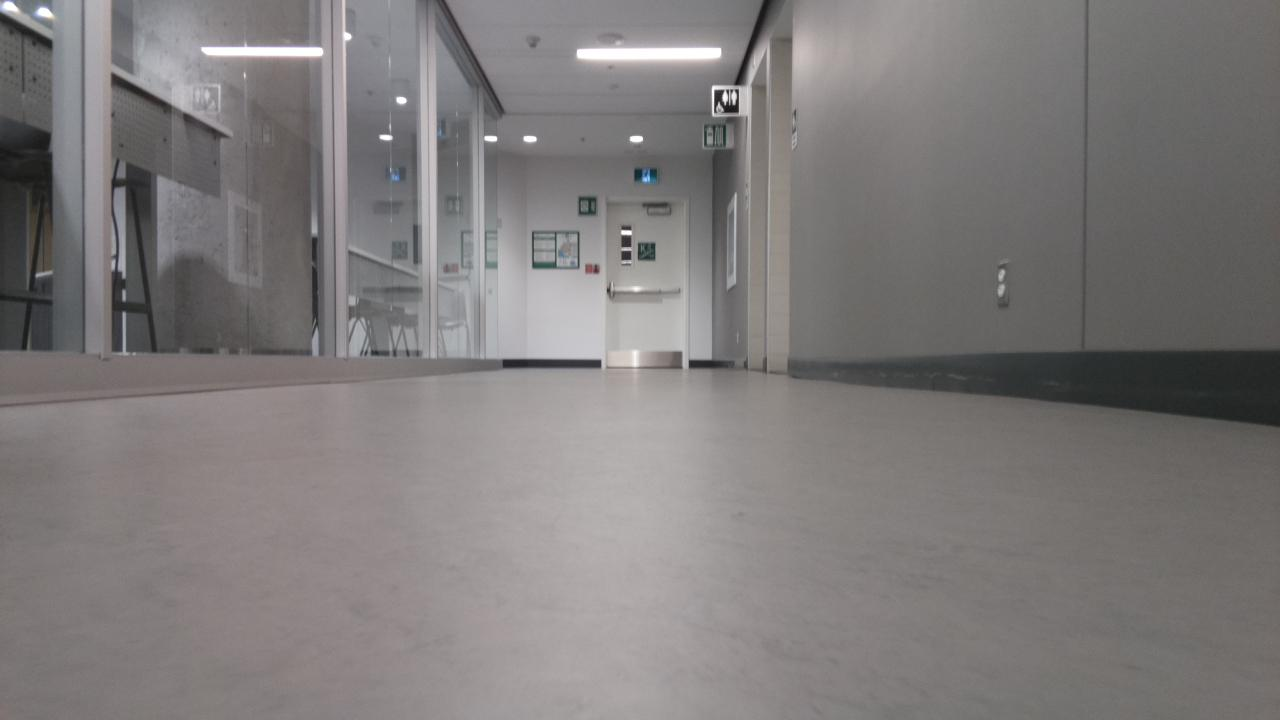door: (607, 203, 682, 368)
sign: (532, 232, 579, 269), (714, 89, 738, 112), (704, 125, 725, 147), (634, 168, 656, 182), (638, 243, 654, 260), (579, 197, 595, 214)
